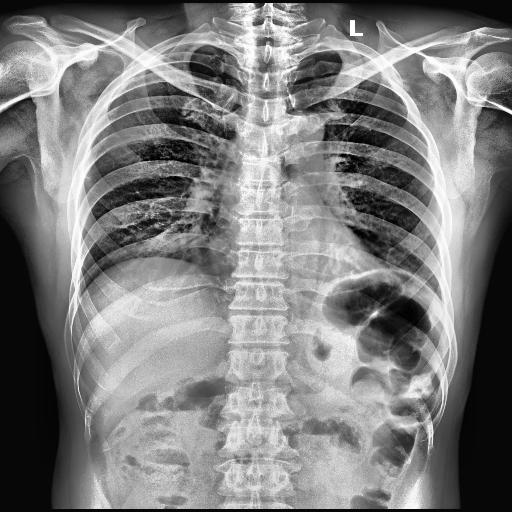0- Aortic enlargement: (275, 109, 327, 164), (270, 108, 323, 154), (283, 112, 325, 149)
